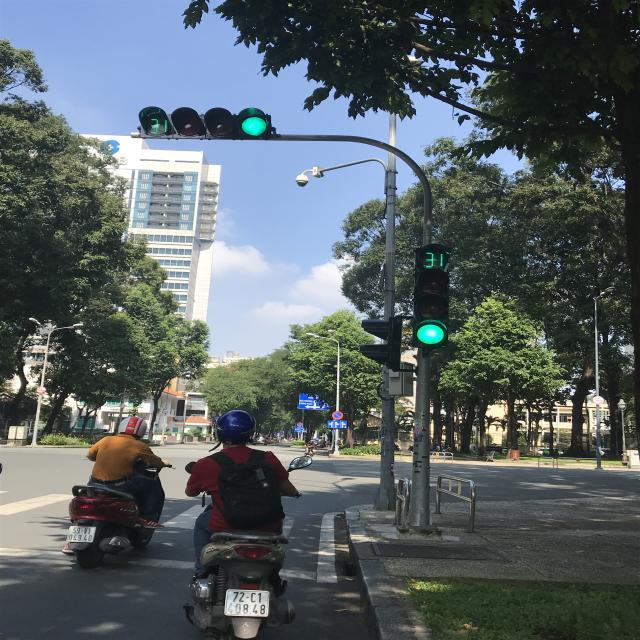Green: (168, 94, 276, 150), (409, 270, 459, 356)
